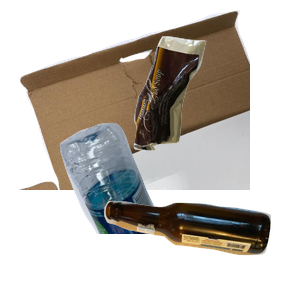cardboard: (16, 10, 256, 190)
glass: (101, 198, 300, 300)
plastic: (57, 120, 284, 300)
trash: (131, 34, 300, 177)
